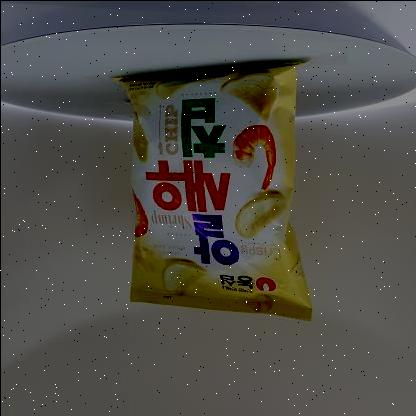Others: (109, 46, 319, 330)
